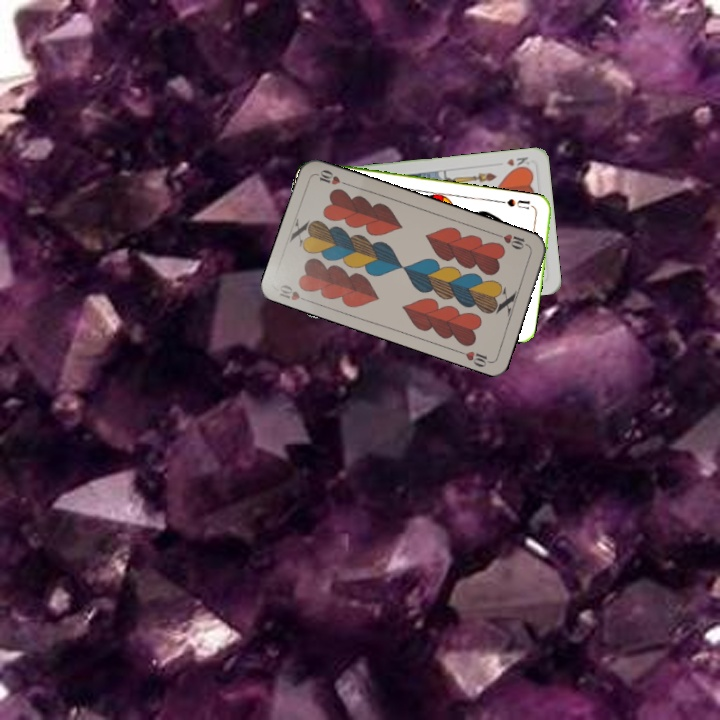H10: (275, 280, 313, 305), (492, 230, 532, 252)
HK: (503, 153, 532, 172)
SU: (503, 195, 532, 212)
